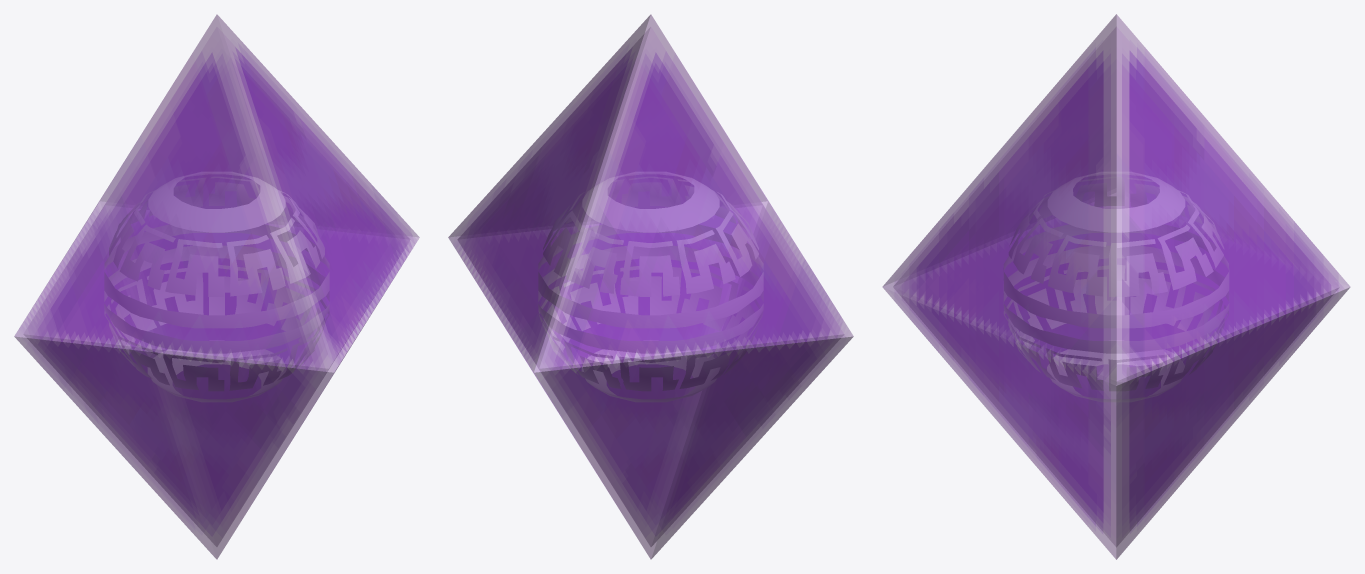
Rendered from magic_armor.fbx.
3 views of the same model, side by side, from view 1: azimuth 30°, elevation 25°; view 2: azimuth 150°, elevation 25°; view 3: azimuth 270°, elevation 25° (orthographic).
Visible parts, largest first — view 1: ma_outside, ma_inside, ma_sphere; view 2: ma_outside, ma_inside, ma_sphere; view 3: ma_outside, ma_inside, ma_sphere.
Boxes of the visible parts, x1,y1,x2,y2 form: ma_outside: (14,14,419,559); ma_inside: (23,27,410,546); ma_sphere: (104,172,329,401); ma_outside: (448,14,853,559); ma_inside: (457,27,844,546); ma_sphere: (538,172,763,401); ma_outside: (882,14,1350,559); ma_inside: (893,26,1339,547); ma_sphere: (1004,172,1228,401).
Bounding box in the file's own units: 3655 × 4700 × 3655.
3 materials, 3 textured.
